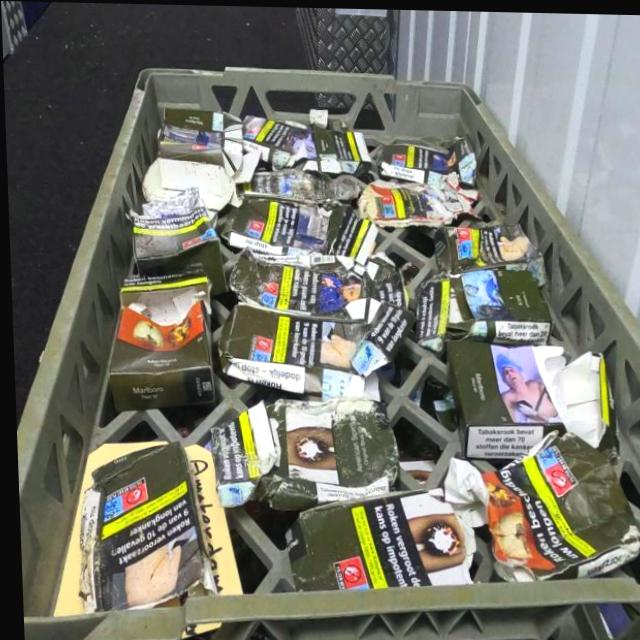Paper: (437, 422, 639, 582), (68, 435, 213, 615), (204, 390, 397, 512), (212, 290, 415, 402), (277, 480, 473, 593), (441, 337, 617, 462), (100, 268, 214, 414), (223, 242, 407, 321), (120, 183, 224, 293), (223, 193, 377, 264), (417, 272, 557, 340), (153, 105, 263, 183), (353, 165, 481, 228), (430, 217, 544, 284), (280, 104, 370, 176), (372, 126, 475, 185), (240, 164, 359, 202), (240, 111, 307, 169)
